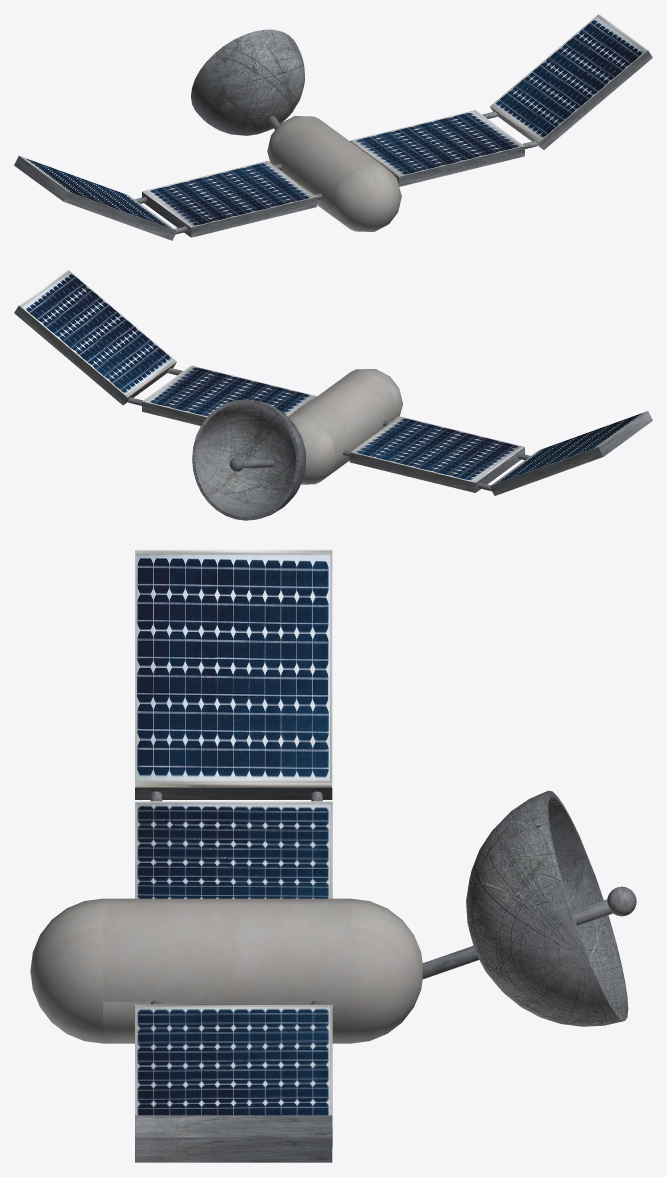
The model's file is Satelite.FBX.
3 renders of one model, top to bottom at view 1: azimuth 30°, elevation 25°; view 2: azimuth 150°, elevation 25°; view 3: azimuth 270°, elevation 25°, orthographic. The views are drawn at different scales.
Parts seen in each view (by area): view 1: PanelAdentro, PanelAfuera, Antena, Capsula; view 2: PanelAfuera, PanelAdentro, Antena, Capsula; view 3: PanelAfuera, Capsula, PanelAdentro, Antena, Cylinder005.
Part boxes in pixels (x1,y1,x2,y2): PanelAdentro: (142,110,524,237); PanelAfuera: (14,14,652,240); Antena: (191,29,304,135); Capsula: (267,116,401,231); PanelAfuera: (14,269,652,495); PanelAdentro: (142,365,524,492); Antena: (192,399,306,520); Capsula: (289,369,402,484); PanelAfuera: (135,549,332,1162); Capsula: (30,898,422,1043); PanelAdentro: (135,801,332,1146); Antena: (466,790,628,1026); Cylinder005: (422,899,612,979).
Size of the model in its own units: 200 by 38.07 by 89.15.
Materials: 3 (3 with a texture image).
